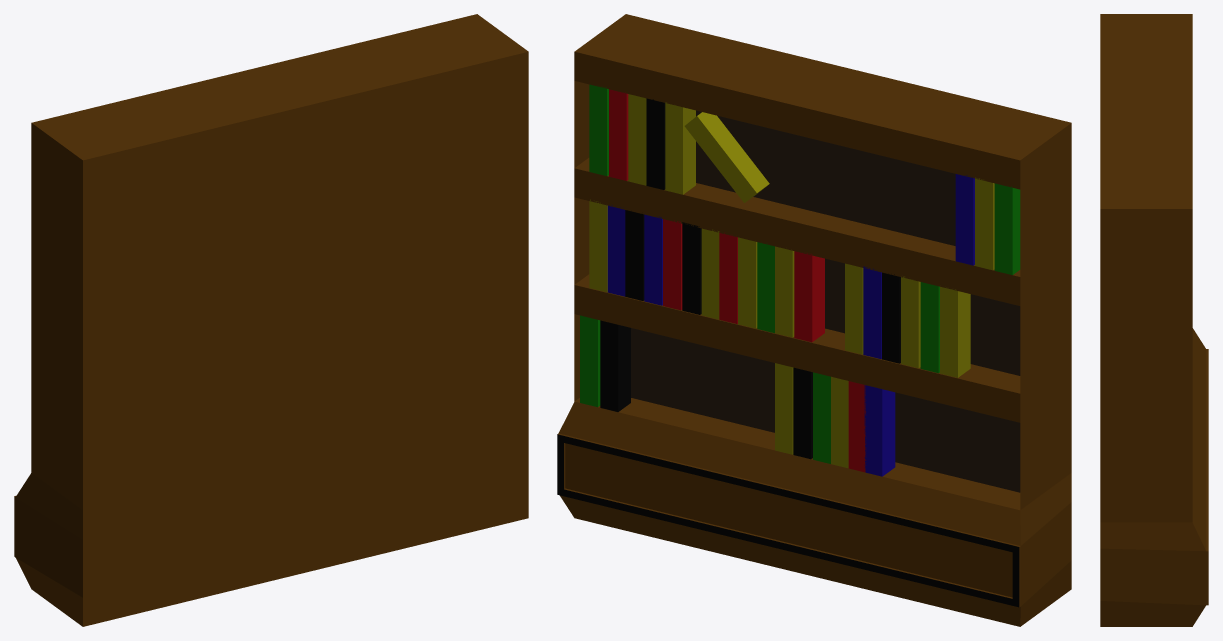
File: kitaplik.fbx
The picture shows the model from 3 angles, left to right: view 1: azimuth 30°, elevation 25°; view 2: azimuth 150°, elevation 25°; view 3: azimuth 270°, elevation 25°; orthographic projection. The views are drawn at different scales.
Visible parts, largest first — view 1: Cube; view 2: Cube; view 3: Cube.
Boxes of the visible parts, x1,y1,x2,y2 form: Cube: (14,14,528,626); Cube: (557,14,1071,626); Cube: (1100,14,1208,626).
Bounding box in the file's own units: 207 × 200 × 47.02.
